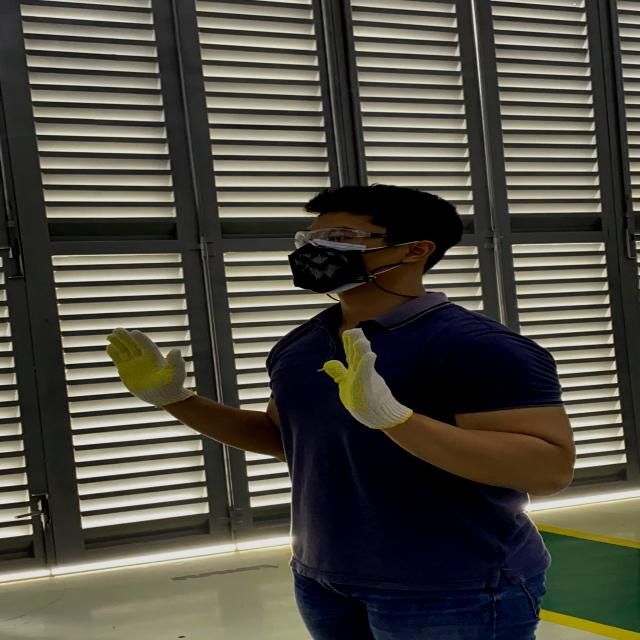face_mask: (282, 222, 384, 295)
glasses: (289, 224, 430, 252)
hand_glove: (317, 324, 420, 441), (94, 322, 204, 411)
head_nohelmet: (302, 177, 446, 232)
person: (102, 171, 585, 640)
